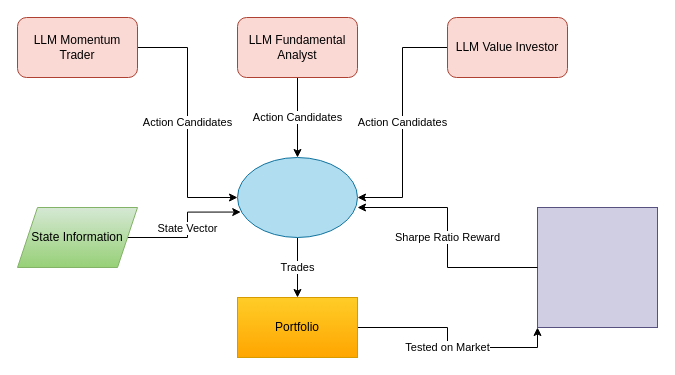
Some shapes in this 675 by 375 pixel diagram are drawn without their labels. Each missing label, with the box of its shape:
RL Agent: (236, 156, 358, 238)
Training Environment: (536, 206, 658, 328)
